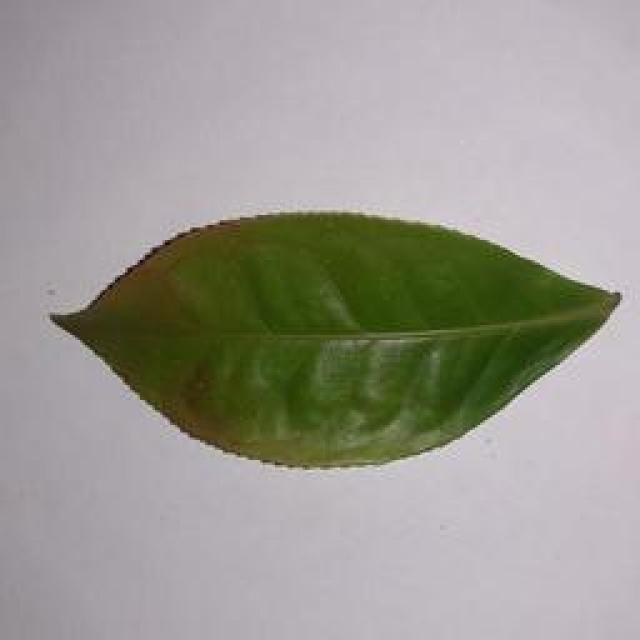Red Leaf Spot: (53, 201, 615, 470)
